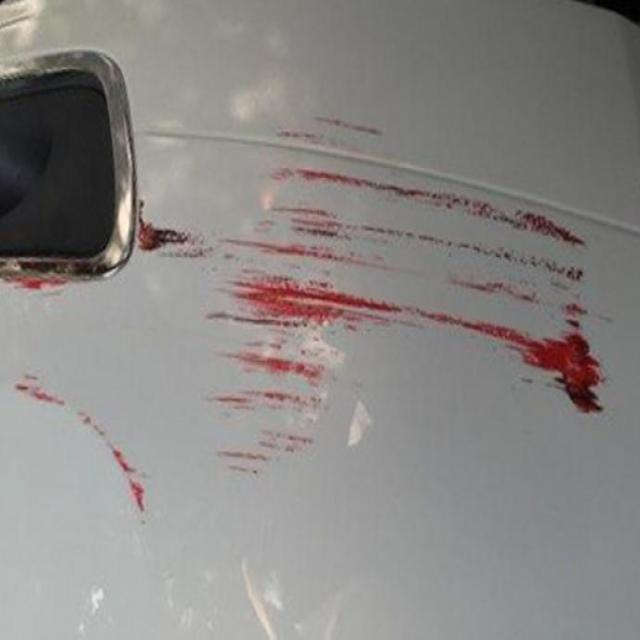scratch: (8, 120, 607, 571)
